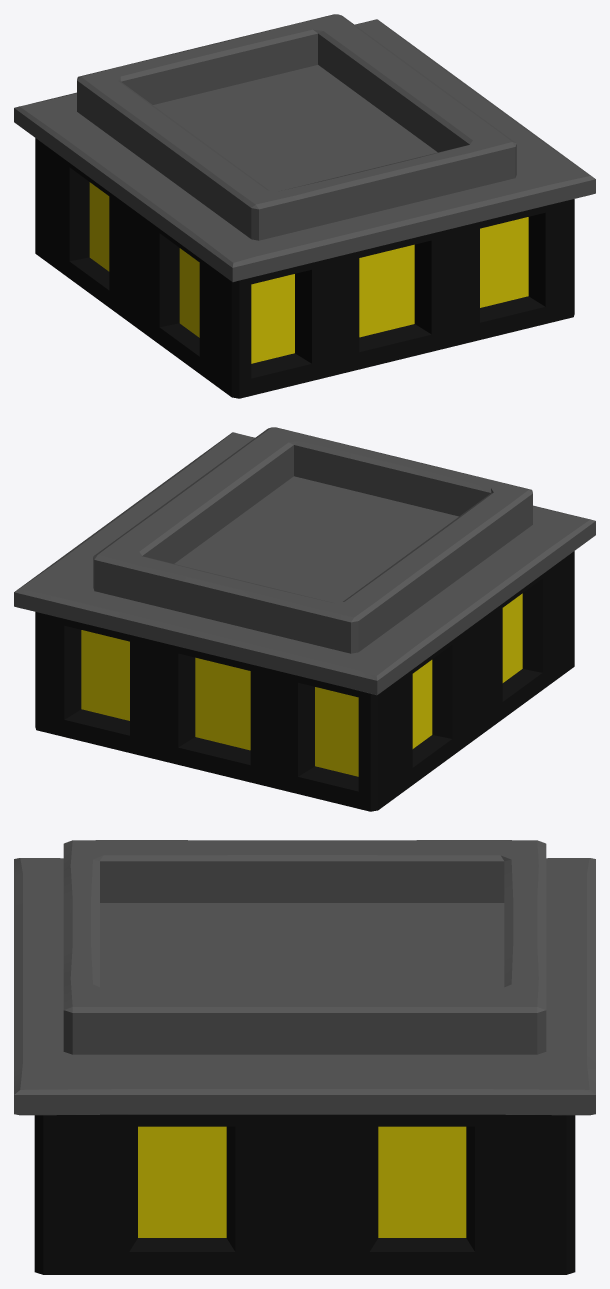
Rendered from building_03.FBX.
3 views of the same model, one above another, from view 1: azimuth 30°, elevation 25°; view 2: azimuth 150°, elevation 25°; view 3: azimuth 270°, elevation 25° (orthographic). The views are drawn at different scales.
Visible parts, largest first — view 1: Object008; view 2: Object008; view 3: Object008.
Boxes of the visible parts, x1,y1,x2,y2 form: Object008: [14, 14, 595, 398]; Object008: [14, 427, 595, 811]; Object008: [14, 840, 595, 1274].
Bounding box in the file's own units: 234 × 108 × 244.
